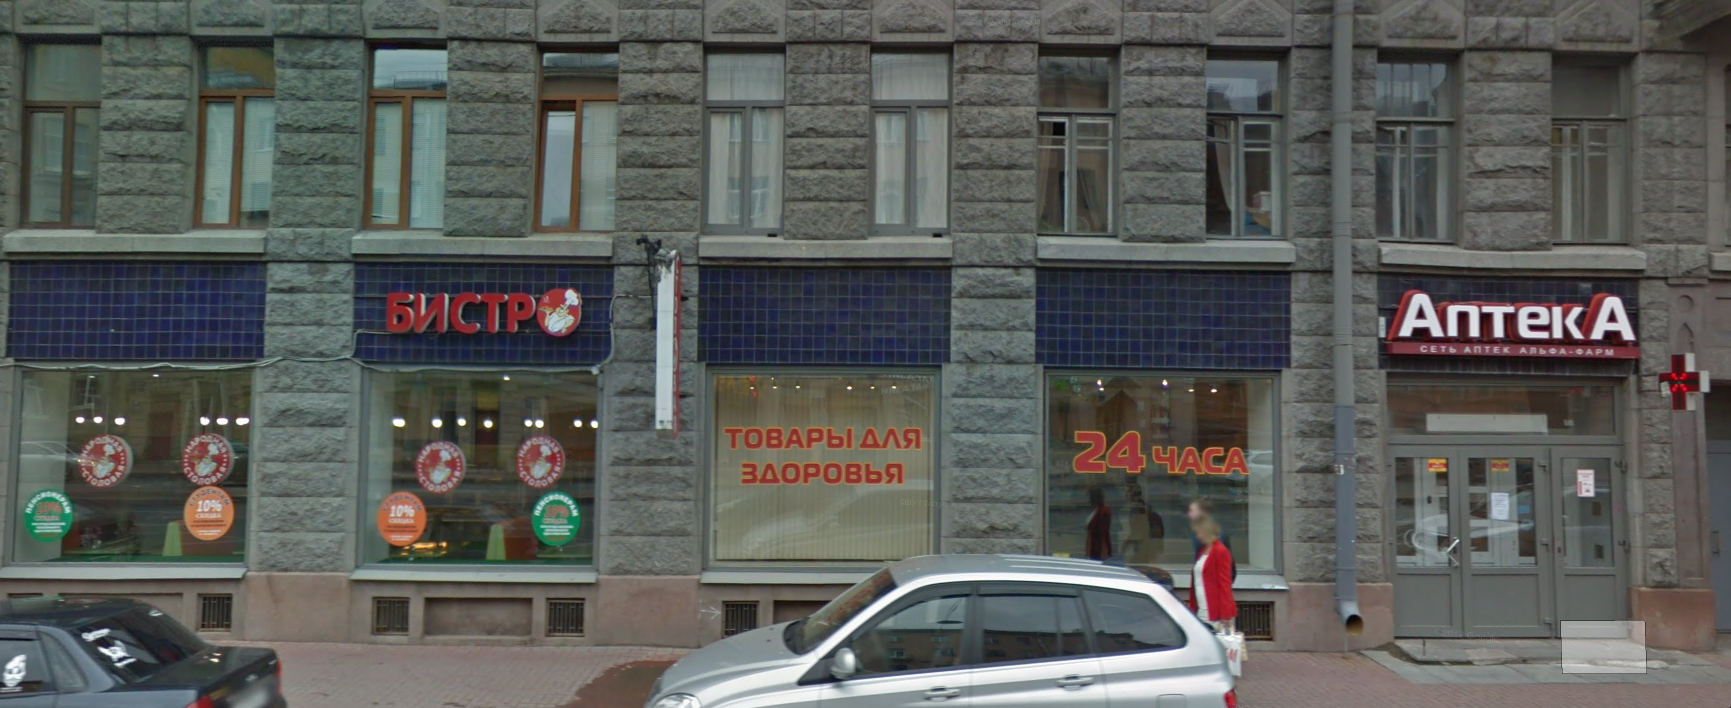cantilever: (633, 228, 684, 445), (1642, 344, 1721, 413)
door: (1383, 440, 1462, 630)
signboard: (1385, 282, 1640, 367), (380, 281, 588, 339)
window: (8, 359, 256, 561), (1392, 376, 1632, 567), (360, 370, 598, 559), (705, 373, 938, 567), (1047, 368, 1275, 560), (703, 40, 786, 239), (1037, 47, 1121, 241), (865, 46, 951, 233), (367, 43, 447, 235), (1555, 54, 1635, 249), (1378, 50, 1455, 246), (538, 44, 615, 240), (1208, 50, 1283, 239), (195, 36, 270, 224), (23, 31, 95, 224)
